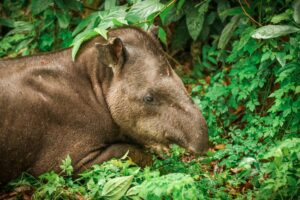Anta: (4, 23, 216, 177)
